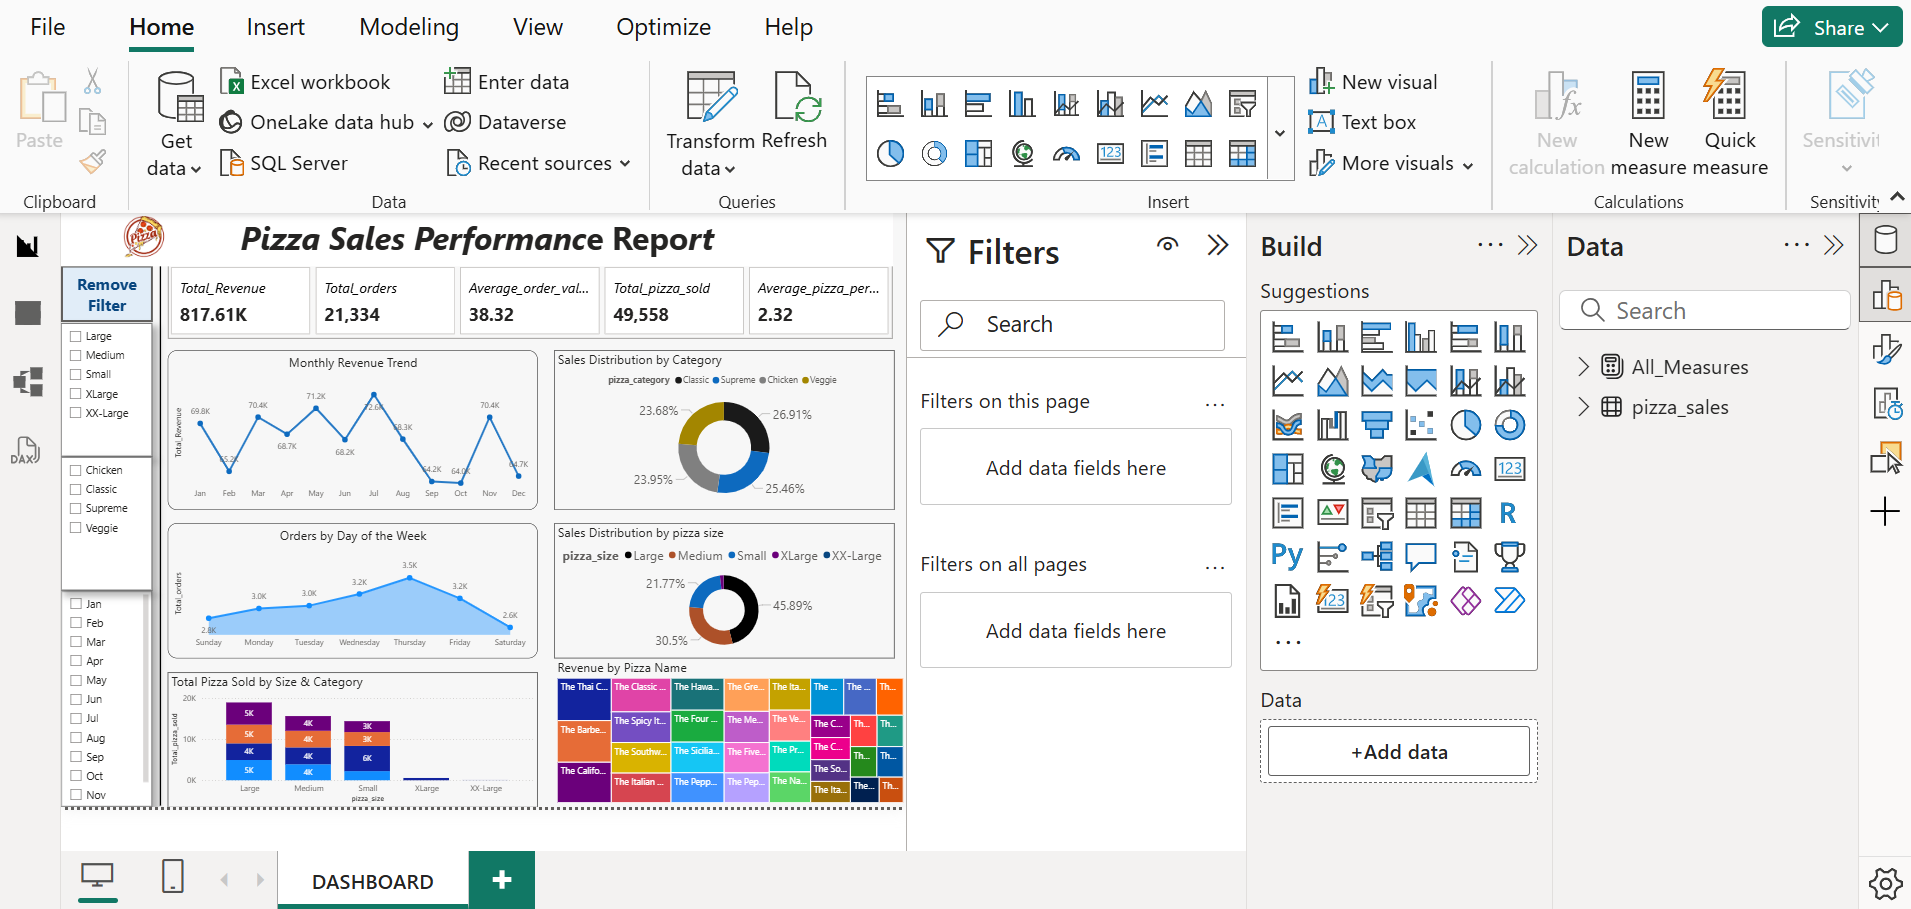

Layout of this report page (visuals, bound fields, positions):
{"tool":"powerbi","page":{"name":"DASHBOARD","canvas":[1280,900],"ordinal":0},"visuals":[{"type":"shape","box":[0,0,1260.9,78.2],"z":0},{"type":"cardVisual","fields":{"Data":["All_Measures.Total_Revenue","All_Measures.Total_orders","All_Measures.Average_order_value","All_Measures.Total_pizza_sold","All_Measures.Average_pizza_per_order"]},"box":[161.3,78.2,1099.7,112.4],"z":1000},{"type":"lineChart","title":"Monthly Revenue Trend","fields":{"Category":["pizza_sales.Month Name"],"Y":["All_Measures.Total_Revenue"]},"box":[162.1,207.2,560.6,241.8],"z":2000},{"type":"lineChart","title":"Orders by Day of the Week","fields":{"Y":["All_Measures.Total_orders"],"Category":["pizza_sales.Day Name"]},"box":[162.1,470.2,560.6,204.6],"z":3000},{"type":"donutChart","title":"Sales Distribution by Category","fields":{"Category":["pizza_sales.pizza_category"],"Y":["All_Measures.Total_Revenue"]},"box":[746.5,207.2,515.4,241.8],"z":4000},{"type":"donutChart","title":"Sales Distribution by pizza size","fields":{"Y":["All_Measures.Total_Revenue"],"Category":["pizza_sales.pizza_size"]},"box":[746.5,470.2,515.4,204.6],"z":5000},{"type":"shape","box":[231.1,536.7,451.6,273.6],"z":6000},{"type":"columnChart","title":"Total Pizza Sold by Size & Category","fields":{"Category":["pizza_sales.pizza_size"],"Y":["All_Measures.Total_pizza_sold"],"Series":["pizza_sales.pizza_category"]},"box":[162.1,696.1,560.6,204.6],"z":7000},{"type":"treemap","title":"Revenue by Pizza Name","fields":{"Group":["pizza_sales.pizza_name"],"Values":["All_Measures.Total_Revenue"]},"box":[746.5,674.8,534,223.2],"z":8000},{"type":"slicer","fields":{"Values":["pizza_sales.pizza_size"]},"box":[0,167.4,138.1,201.9],"z":9000},{"type":"slicer","fields":{"Values":["pizza_sales.Month Name"]},"box":[0,573.9,138.1,326.8],"z":10000},{"type":"slicer","fields":{"Values":["pizza_sales.pizza_category"]},"box":[0,369.3,138.1,201.9],"z":11000},{"type":"shape","box":[138.1,79.7,23.9,818.3],"z":12000},{"type":"actionButton","box":[0,80.6,139.3,85.5],"z":13000},{"type":"textbox","box":[0,0,1260.9,80.6],"z":14000},{"type":"image","box":[0,0,256.6,78.2],"z":15000}]}

Visuals, with their boxes on the page's 1280x900 design canvas (x1, y1, x2, y2). These are canvas units, not pixel positions in the 1911x909 screenshot, which may show the page scaled, cropped or inside an application window:
shape: detection(0, 0, 1261, 78)
cardVisual - All_Measures.Total_Revenue x All_Measures.Total_orders: detection(161, 78, 1261, 191)
"Monthly Revenue Trend" lineChart: detection(162, 207, 723, 449)
"Orders by Day of the Week" lineChart: detection(162, 470, 723, 675)
"Sales Distribution by Category" donutChart: detection(746, 207, 1262, 449)
"Sales Distribution by pizza size" donutChart: detection(746, 470, 1262, 675)
shape: detection(231, 537, 683, 810)
"Total Pizza Sold by Size & Category" columnChart: detection(162, 696, 723, 901)
"Revenue by Pizza Name" treemap: detection(746, 675, 1280, 898)
slicer - pizza_sales.pizza_size: detection(0, 167, 138, 369)
slicer - pizza_sales.Month Name: detection(0, 574, 138, 901)
slicer - pizza_sales.pizza_category: detection(0, 369, 138, 571)
shape: detection(138, 80, 162, 898)
actionButton: detection(0, 81, 139, 166)
textbox: detection(0, 0, 1261, 81)
image: detection(0, 0, 257, 78)
